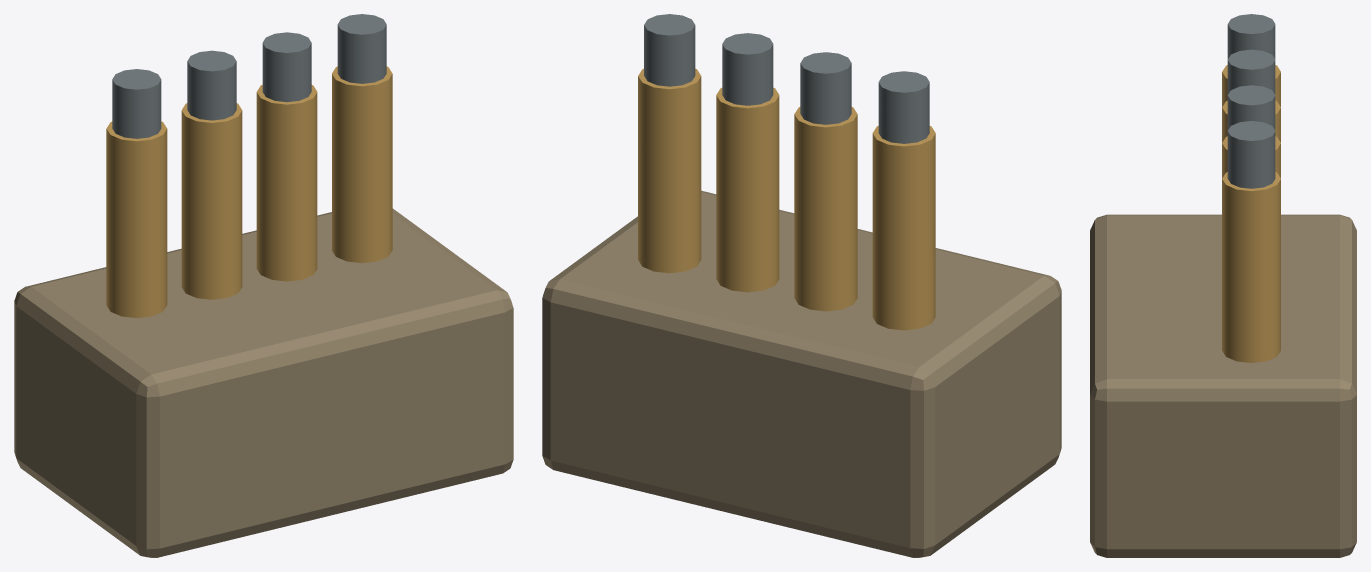
File: SM_AmmoBox.glb
3 views of the same model, side by side, from view 1: azimuth 30°, elevation 25°; view 2: azimuth 150°, elevation 25°; view 3: azimuth 270°, elevation 25° (orthographic). The views are drawn at different scales.
Visible parts, largest first — view 1: SM_AmmoBox; view 2: SM_AmmoBox; view 3: SM_AmmoBox.
Part boxes in pixels (<box>): SM_AmmoBox: <box>14,14,513,557</box>; SM_AmmoBox: <box>542,14,1061,557</box>; SM_AmmoBox: <box>1090,14,1356,557</box>.
Bounding box in the file's own units: 0.3 × 0.3125 × 0.19.
